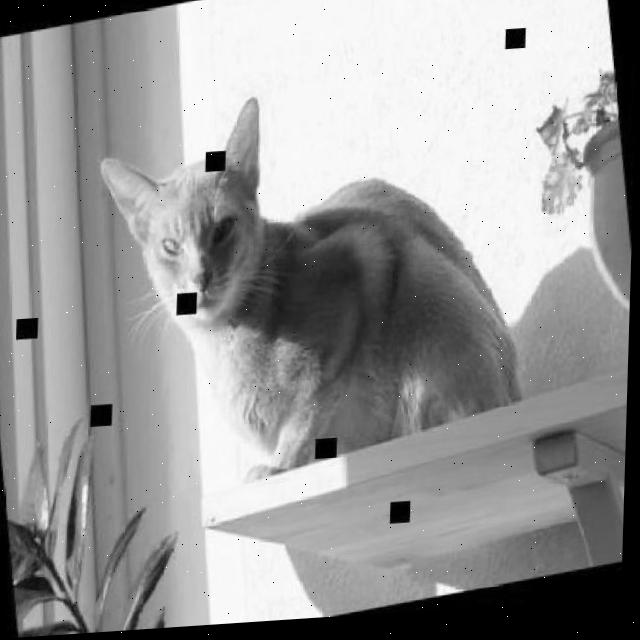Cat: (85, 48, 537, 507)
